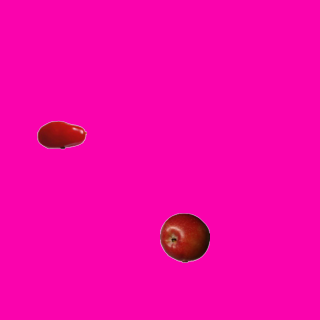Apple Braeburn: (159, 212, 209, 262)
Tomato 2: (36, 109, 86, 159)
